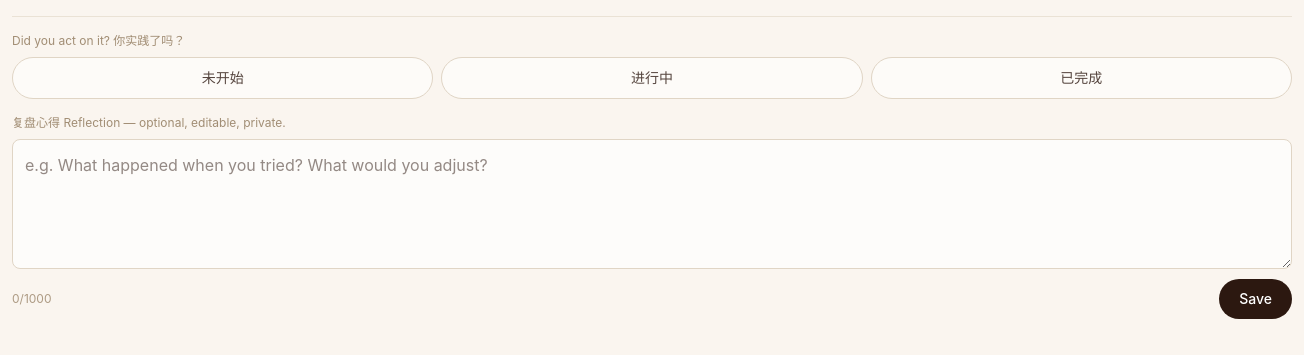
Test: reflection note › failure → error shown and the note text is intact; retry succeeds
Type "my precious note" into the text box at coordinates (652, 204), box [12,139,1292,269]
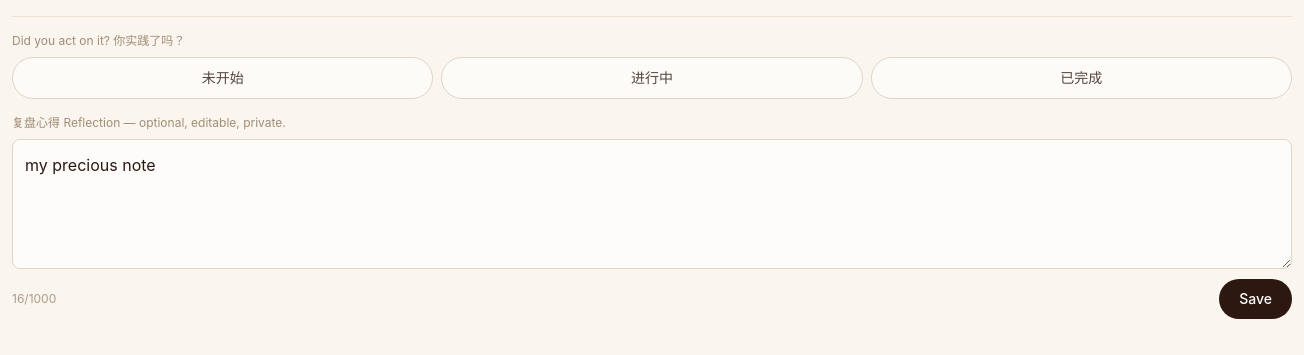
Click the button "Save" at coordinates (1256, 299), box [1219,279,1292,319]
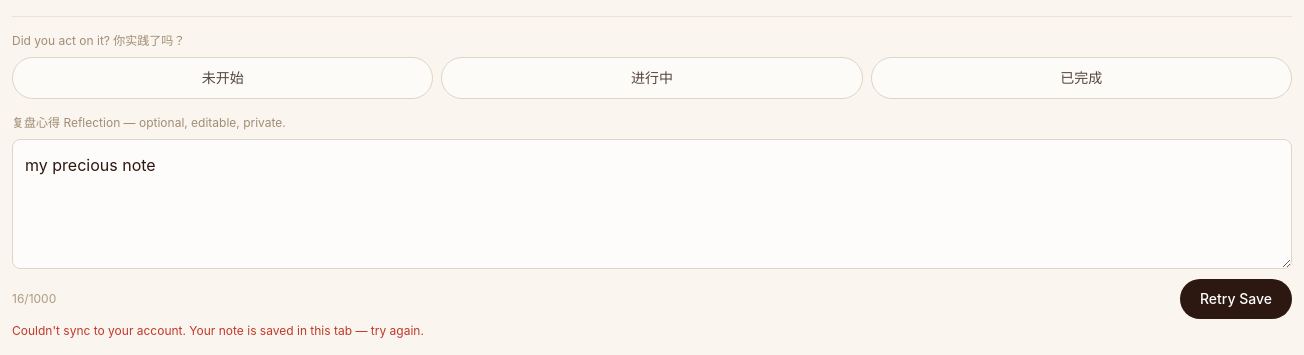
Now the button "Retry Save" is shown
Click the button "Retry Save" at coordinates (1236, 299), box [1180,279,1292,319]
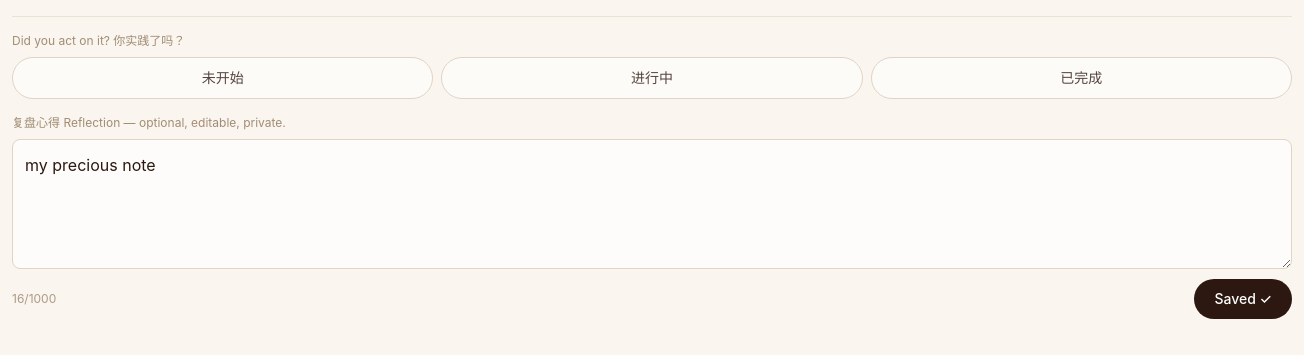
Now the button "Saved ✓" is shown, box [1194,279,1292,319]
